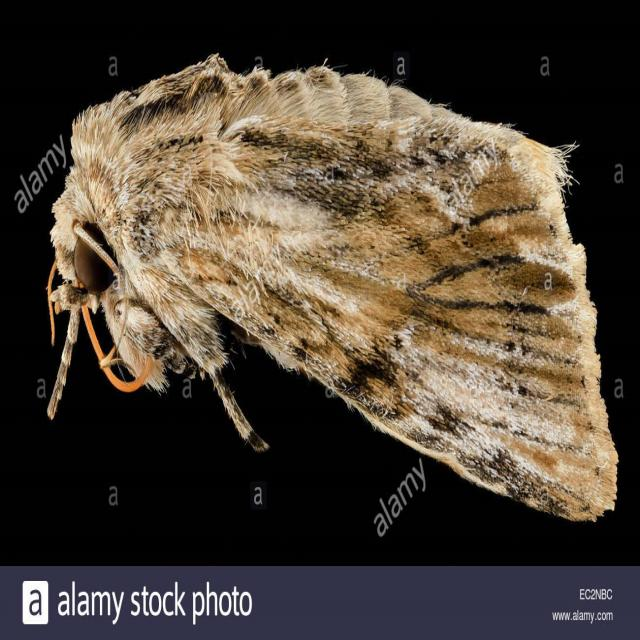armyworm: (28, 44, 627, 533)
